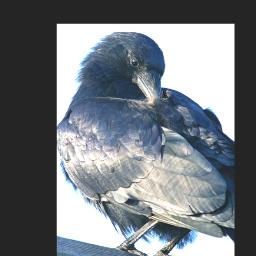Crow: (58, 31, 235, 256)
